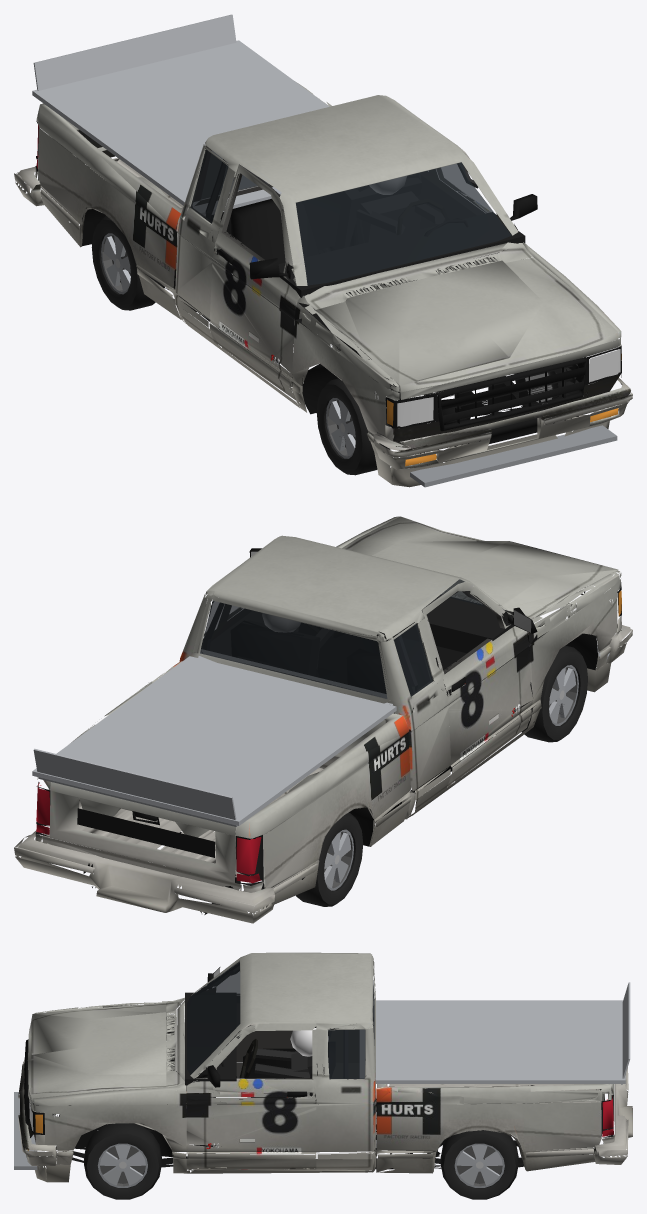
3 views of the same model, one above another, from view 1: azimuth 30°, elevation 25°; view 2: azimuth 150°, elevation 25°; view 3: azimuth 270°, elevation 25° (orthographic). The views are drawn at different scales.
Parts seen in each view (by area): view 1: body, wheel_fr, wheel_rr; view 2: body, wheel_fr, wheel_rr; view 3: body, wheel_fl, wheel_rl.
Boxes of the visible parts, <box> form: body: <box>14,14,632,487</box>; wheel_fr: <box>316,378,390,475</box>; wheel_rr: <box>91,216,164,310</box>; body: <box>14,516,632,923</box>; wheel_fr: <box>517,645,587,742</box>; wheel_rr: <box>293,812,363,906</box>; body: <box>14,952,632,1182</box>; wheel_fl: <box>84,1123,161,1199</box>; wheel_rl: <box>440,1130,518,1199</box>.
Size of the model in its own units: 2.02 by 1.46 by 4.77.
Materials: 2 (1 with a texture image).
